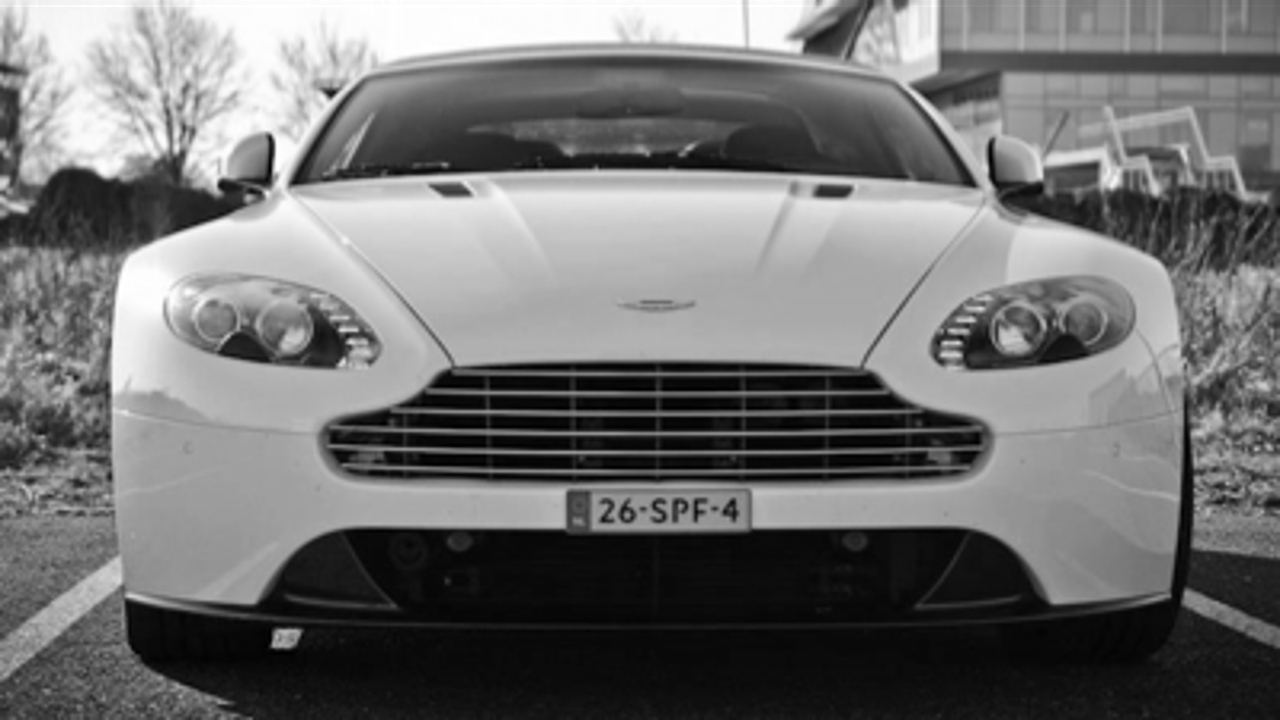license: (558, 484, 759, 540)
